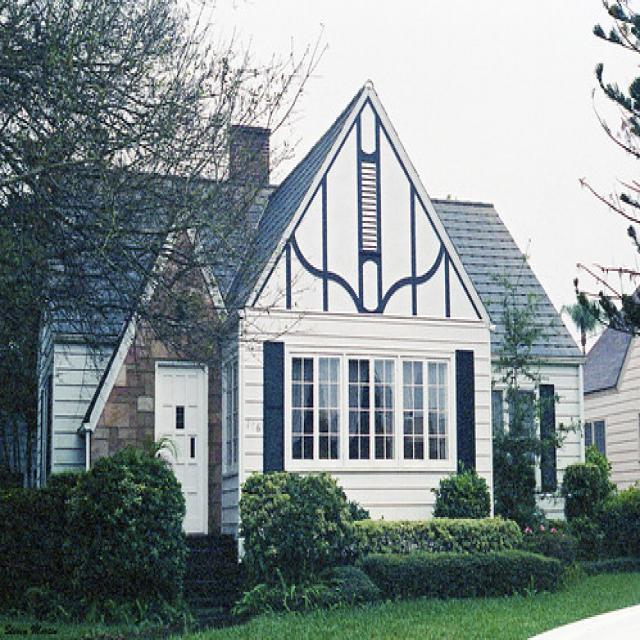Normal_building: (17, 80, 590, 578)
